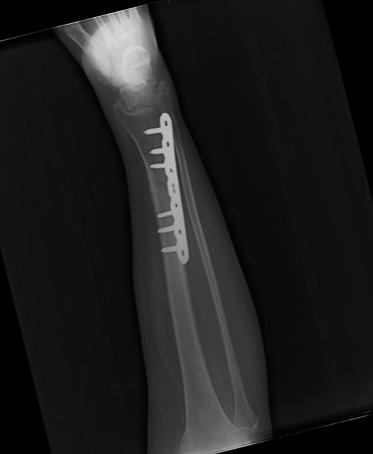fractured: (143, 163, 171, 215)
